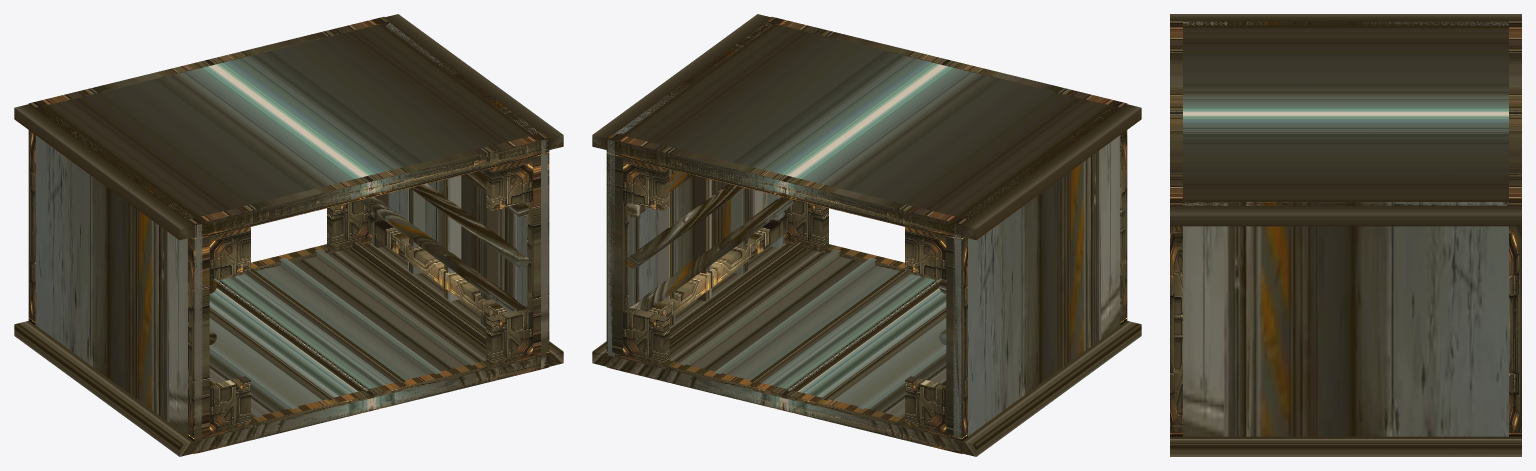
File: hangar_koridor_lonca.glb
The picture shows the model from 3 angles, left to right: view 1: azimuth 30°, elevation 25°; view 2: azimuth 150°, elevation 25°; view 3: azimuth 270°, elevation 25°; orthographic projection. The views are drawn at different scales.
Parts seen in each view (by area): view 1: LOD0_koridor; view 2: LOD0_koridor; view 3: LOD0_koridor.
Boxes of the visible parts, x1,y1,x2,y2 form: LOD0_koridor: [14, 14, 563, 456]; LOD0_koridor: [592, 14, 1141, 456]; LOD0_koridor: [1170, 14, 1521, 456].
Bounding box in the file's own units: 10.2 × 5.84 × 7.6.
Materials: 1 (1 with a texture image).
